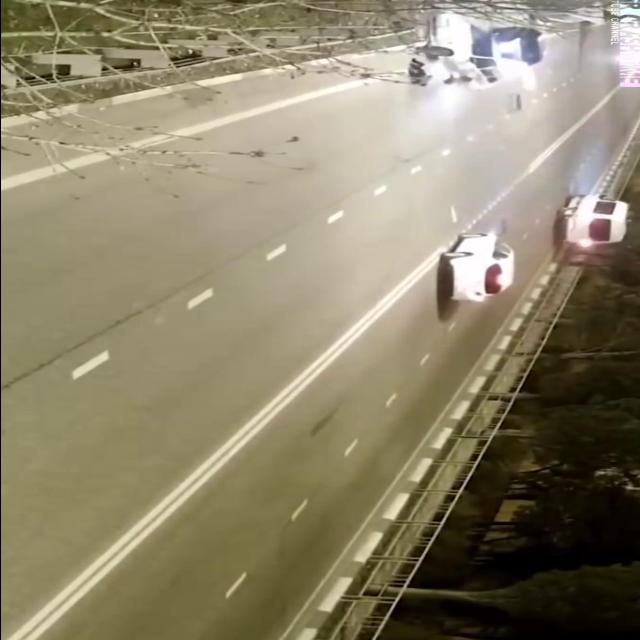accident: (409, 6, 519, 94)
